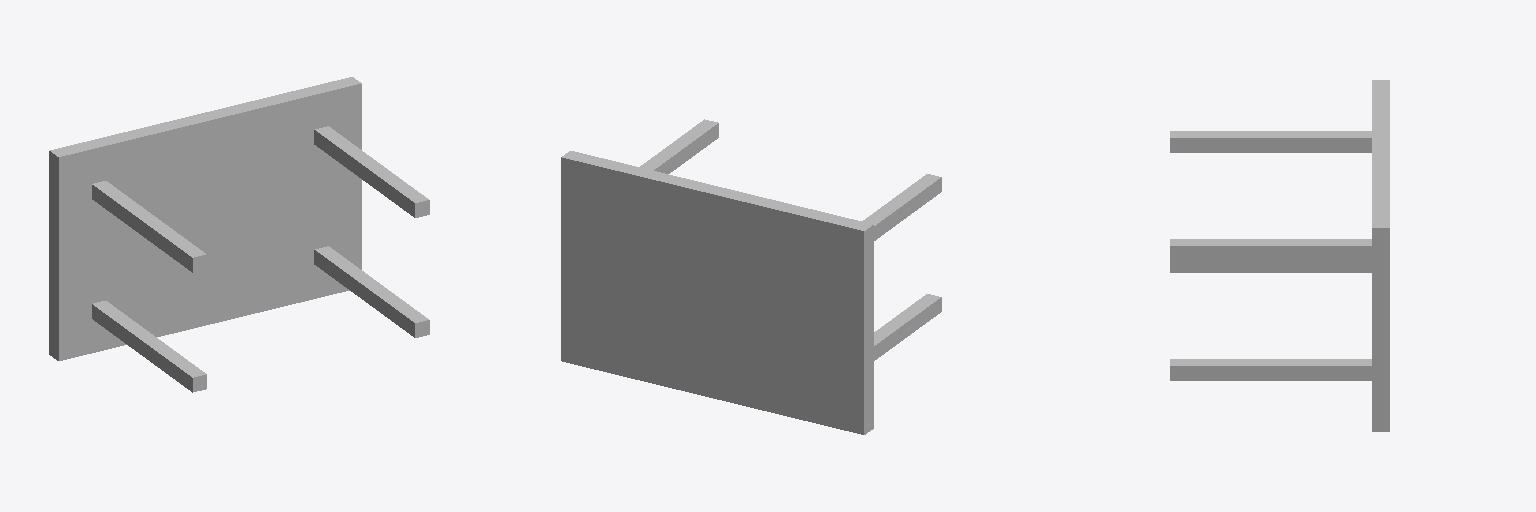
The model's file is random_table77.obj.
3 views of the same model, side by side, from view 1: azimuth 30°, elevation 25°; view 2: azimuth 150°, elevation 25°; view 3: azimuth 270°, elevation 25° (orthographic).
Parts seen in each view (by area): view 1: Table_Cube.1450, TableLeg2_Cube.1453, TableLeg0_Cube.1451, TableLeg1_Cube.1452, TableLeg3_Cube.1454; view 2: Table_Cube.1450, TableLeg1_Cube.1452, TableLeg3_Cube.1454, TableLeg0_Cube.1451; view 3: Table_Cube.1450, TableLeg0_Cube.1451, TableLeg1_Cube.1452, TableLeg2_Cube.1453, TableLeg3_Cube.1454.
Part boxes in pixels (left/top/right/bottom): Table_Cube.1450: left=49, top=77, right=361, bottom=360; TableLeg2_Cube.1453: left=314, top=246, right=429, bottom=337; TableLeg0_Cube.1451: left=314, top=126, right=429, bottom=217; TableLeg1_Cube.1452: left=92, top=181, right=206, bottom=272; TableLeg3_Cube.1454: left=92, top=301, right=206, bottom=392; Table_Cube.1450: left=561, top=151, right=873, bottom=434; TableLeg1_Cube.1452: left=862, top=174, right=941, bottom=240; TableLeg3_Cube.1454: left=874, top=294, right=941, bottom=360; TableLeg0_Cube.1451: left=640, top=119, right=718, bottom=173; Table_Cube.1450: left=1372, top=80, right=1389, bottom=431; TableLeg0_Cube.1451: left=1170, top=239, right=1371, bottom=260; TableLeg1_Cube.1452: left=1170, top=131, right=1371, bottom=152; TableLeg2_Cube.1453: left=1170, top=359, right=1371, bottom=380; TableLeg3_Cube.1454: left=1170, top=261, right=1371, bottom=272.
Bounding box in the file's own units: 6.38 × 4.11 × 4.02.